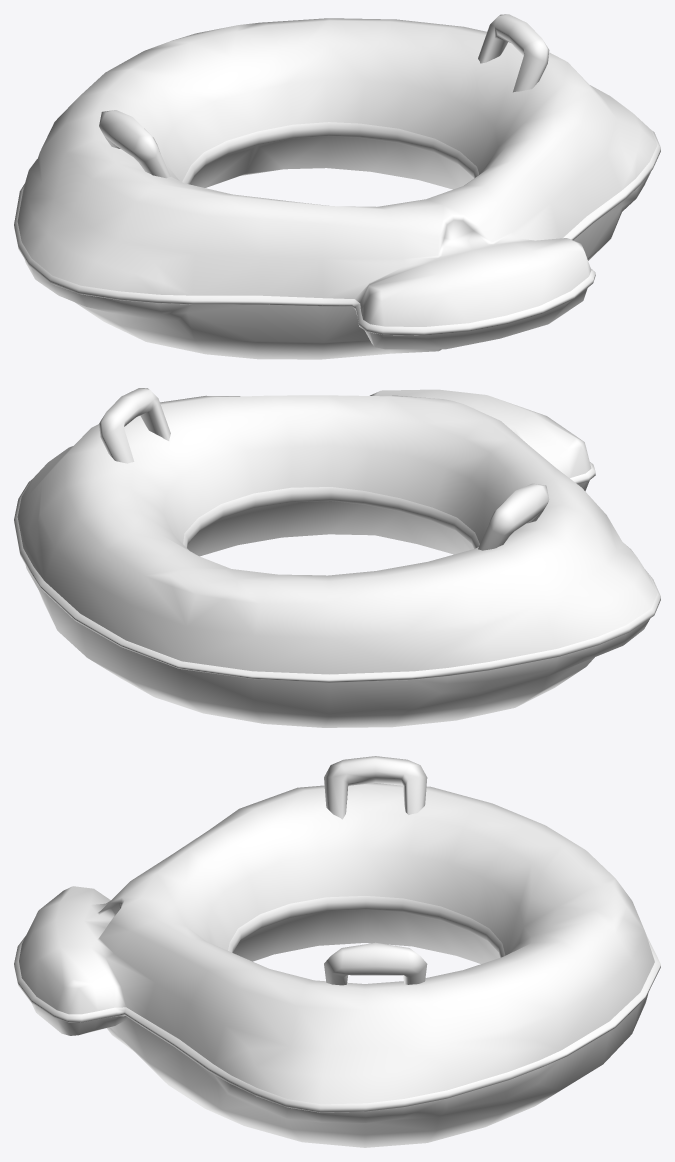
File: Prop_MantaFloat.glb
3 renders of one model, top to bottom at view 1: azimuth 30°, elevation 25°; view 2: azimuth 150°, elevation 25°; view 3: azimuth 270°, elevation 25°, orthographic.
Visible parts, largest first — view 1: Prop_MantaFloat; view 2: Prop_MantaFloat; view 3: Prop_MantaFloat.
Part boxes in pixels (bbox=[...]): Prop_MantaFloat: bbox=[14, 14, 660, 359]; Prop_MantaFloat: bbox=[14, 388, 660, 727]; Prop_MantaFloat: bbox=[14, 756, 660, 1147].
Size of the model in its own units: 0.889 by 0.2704 by 0.8405.
1 material, 1 textured.
